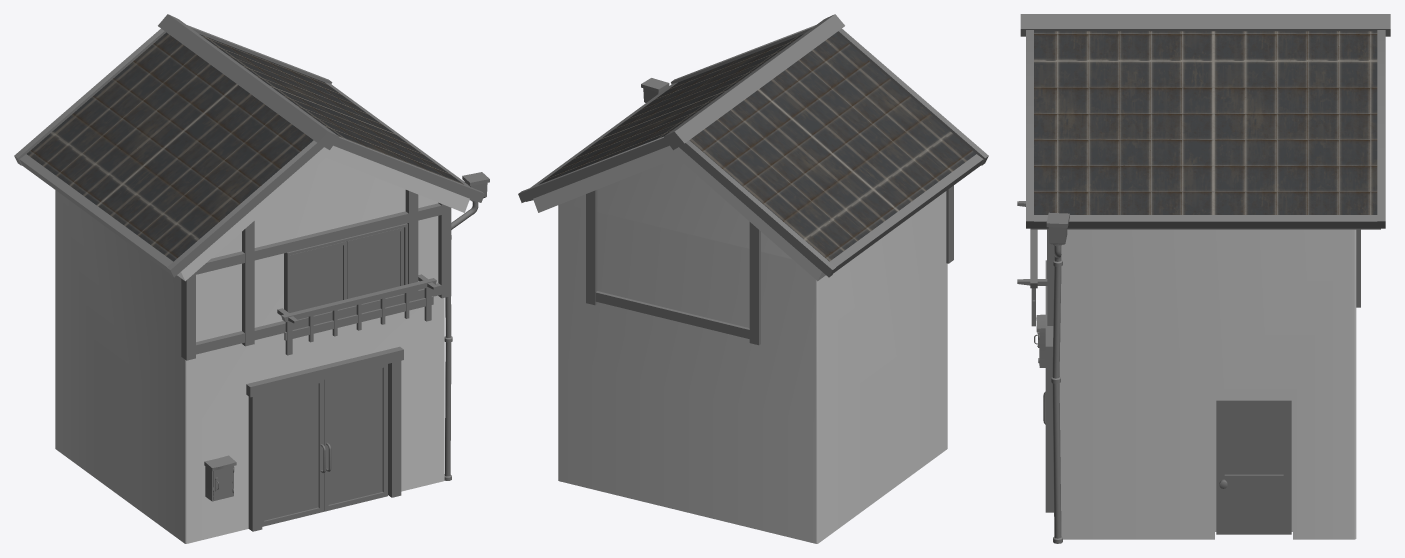
Rendered from SM_house_japan_03.fbx.
3 renders of one model, left to right at view 1: azimuth 30°, elevation 25°; view 2: azimuth 150°, elevation 25°; view 3: azimuth 270°, elevation 25°, orthographic. The views are drawn at different scales.
Visible parts, largest first — view 1: Object32345; view 2: Object32345; view 3: Object32345.
Part boxes in pixels (x1=…): Object32345: x1=14, y1=14, x2=489, y2=543; Object32345: x1=518, y1=14, x2=988, y2=543; Object32345: x1=1017, y1=14, x2=1390, y2=543.
Bounding box in the file's own units: 288 × 328 × 246.
